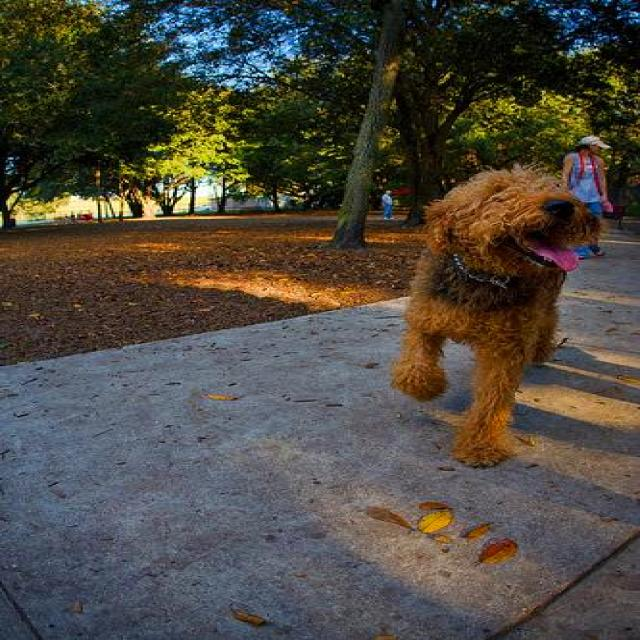airedale: (382, 162, 594, 468)
